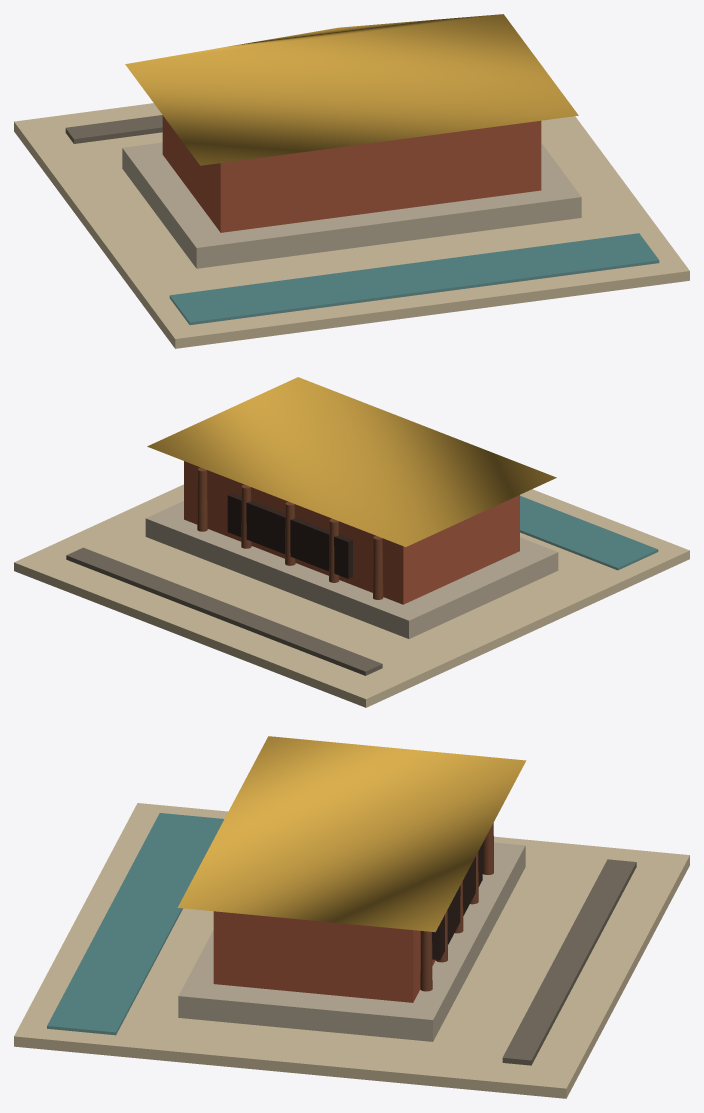
Rendered from model-medium.glb.
3 views of the same model, one above another, from view 1: azimuth 30°, elevation 25°; view 2: azimuth 150°, elevation 25°; view 3: azimuth 270°, elevation 25° (orthographic). The views are drawn at different scales.
Visible parts, largest first — view 1: context_site_plinth, sweeping_tiled_roof, main_hall_wall_volume, raised_ceremonial_platform, context_water_edge, front_scale_strip; view 2: context_site_plinth, sweeping_tiled_roof, raised_ceremonial_platform, main_hall_wall_volume, front_scale_strip, central_shadow_door, context_water_edge, front_column_5, front_column_1; view 3: context_site_plinth, sweeping_tiled_roof, raised_ceremonial_platform, context_water_edge, main_hall_wall_volume, front_scale_strip, central_shadow_door, front_column_5.
Boxes of the visible parts, box(x1,y1,x2,y2) form: context_site_plinth: box(14, 103, 689, 348); sweeping_tiled_roof: box(125, 14, 578, 165); main_hall_wall_volume: box(162, 115, 541, 232); raised_ceremonial_platform: box(122, 142, 581, 268); context_water_edge: box(169, 233, 659, 325); front_scale_strip: box(65, 115, 162, 143); context_site_plinth: box(14, 484, 689, 707); sweeping_tiled_roof: box(147, 377, 556, 546); raised_ceremonial_platform: box(145, 501, 558, 638); main_hall_wall_volume: box(184, 461, 519, 604); front_scale_strip: box(66, 547, 382, 675); central_shadow_door: box(227, 493, 352, 578); context_water_edge: box(520, 496, 658, 570); front_column_5: box(197, 467, 207, 531); front_column_1: box(373, 535, 383, 599); context_site_plinth: box(14, 803, 689, 1098); sweeping_tiled_roof: box(177, 736, 526, 932); raised_ceremonial_platform: box(178, 842, 525, 1041); context_water_edge: box(47, 813, 224, 1035); main_hall_wall_volume: box(213, 911, 435, 1002); front_scale_strip: box(502, 859, 636, 1065); central_shadow_door: box(432, 844, 482, 959); front_column_5: box(420, 931, 432, 991).
Size of the model in its own units: 9.55 by 2.62 by 9.55.
